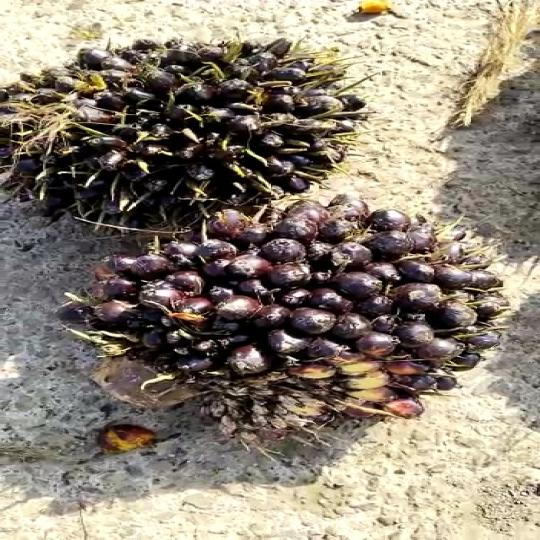mentah: (88, 202, 510, 437), (16, 29, 398, 224)
